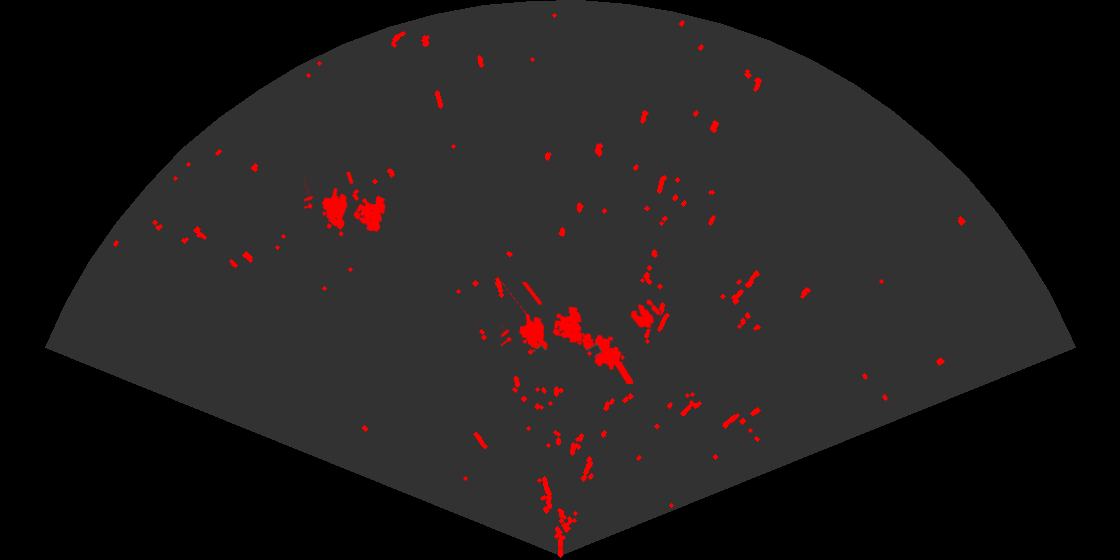ball: (629, 298, 662, 330)
cage: (501, 282, 584, 352), (304, 172, 387, 238)
frogman: (562, 322, 633, 384)
